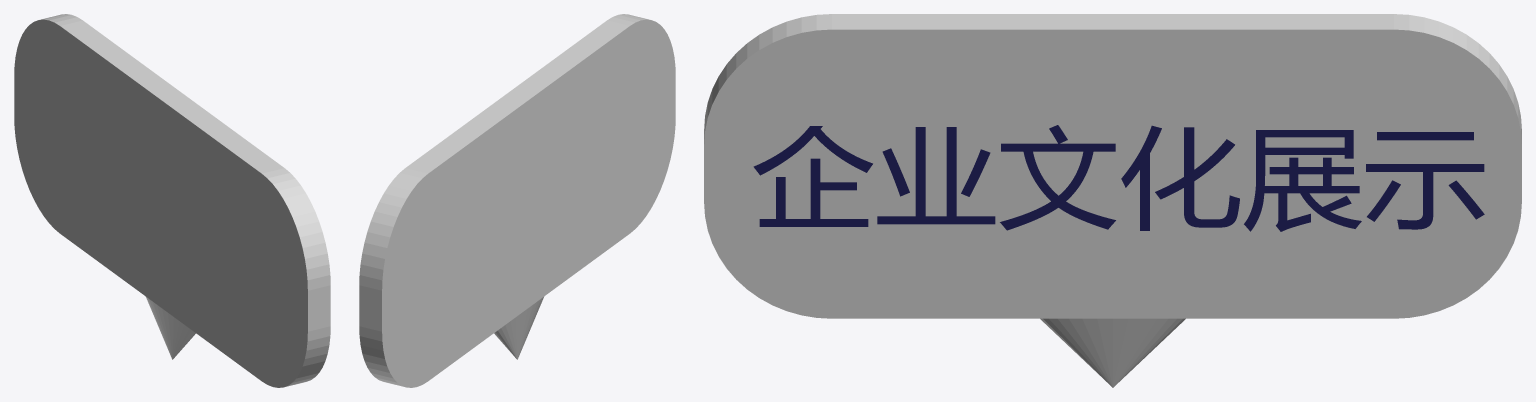
Rendered from culturegrey.glb.
The picture shows the model from 3 angles, left to right: view 1: azimuth 30°, elevation 25°; view 2: azimuth 150°, elevation 25°; view 3: azimuth 270°, elevation 25°; orthographic projection. The views are drawn at different scales.
Visible parts, largest first — view 1: 立方体; view 2: 立方体; view 3: 立方体, 文本.
Part boxes in pixels (bbox=[...]): 立方体: bbox=[14, 14, 330, 387]; 立方体: bbox=[359, 14, 675, 387]; 立方体: bbox=[704, 14, 1521, 387]; 文本: bbox=[753, 125, 1484, 231].
Bounding box in the file's own units: 0.2745 × 2.53 × 5.13.
